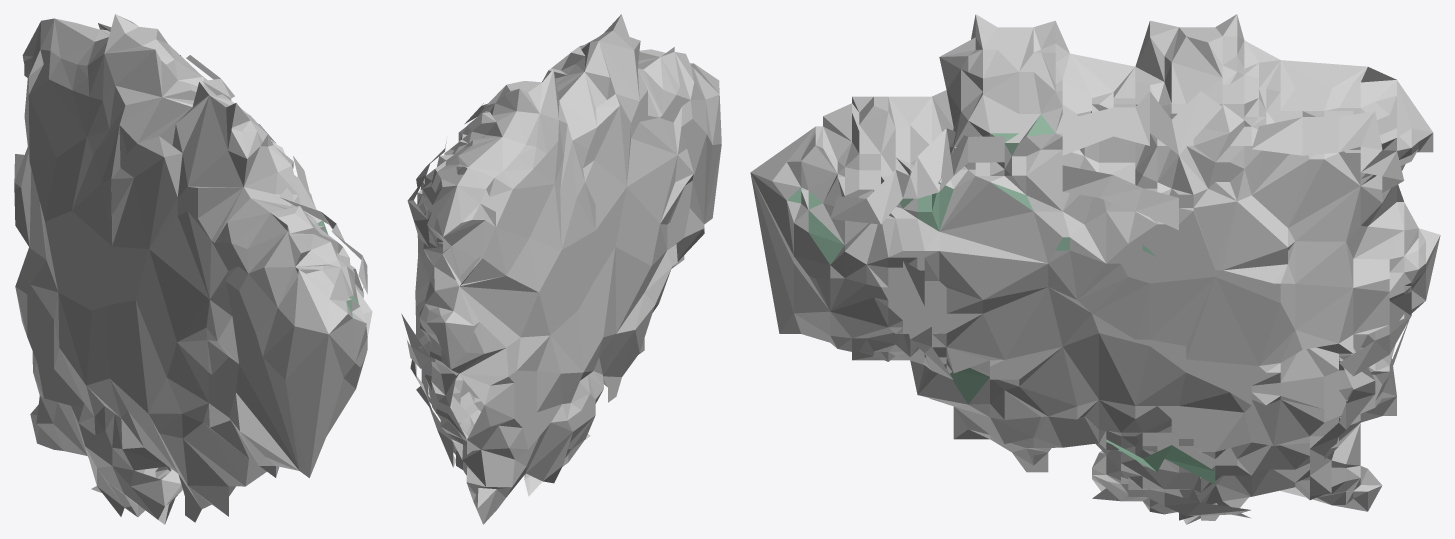
The model's file is B14_4_jade_thorn_shield.obj.
The picture shows the model from 3 angles, left to right: view 1: azimuth 30°, elevation 25°; view 2: azimuth 150°, elevation 25°; view 3: azimuth 270°, elevation 25°; orthographic projection. The views are drawn at different scales.
Parts seen in each view (by area): view 1: B14_4_jade_thorn_shield; view 2: B14_4_jade_thorn_shield; view 3: B14_4_jade_thorn_shield.
Boxes of the visible parts, x1,y1,x2,y2 form: B14_4_jade_thorn_shield: (14, 14, 372, 524); B14_4_jade_thorn_shield: (401, 14, 721, 524); B14_4_jade_thorn_shield: (750, 14, 1440, 524).
Bounding box in the file's own units: 28 × 79 × 95.
